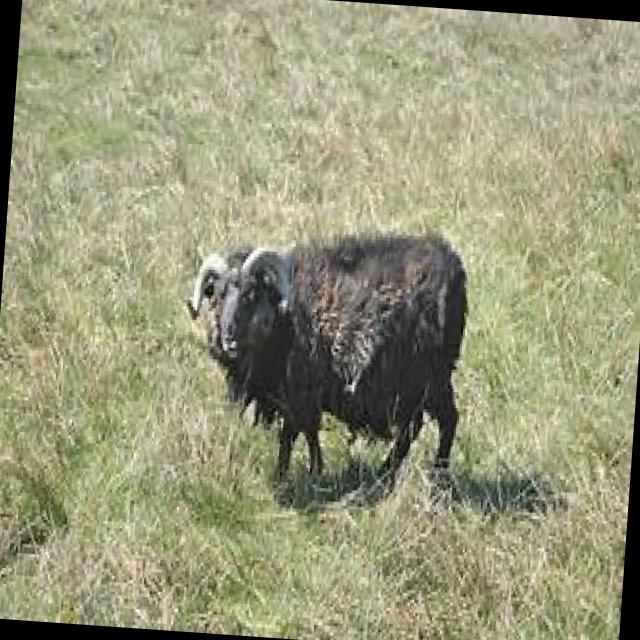animal: (172, 214, 474, 504)
